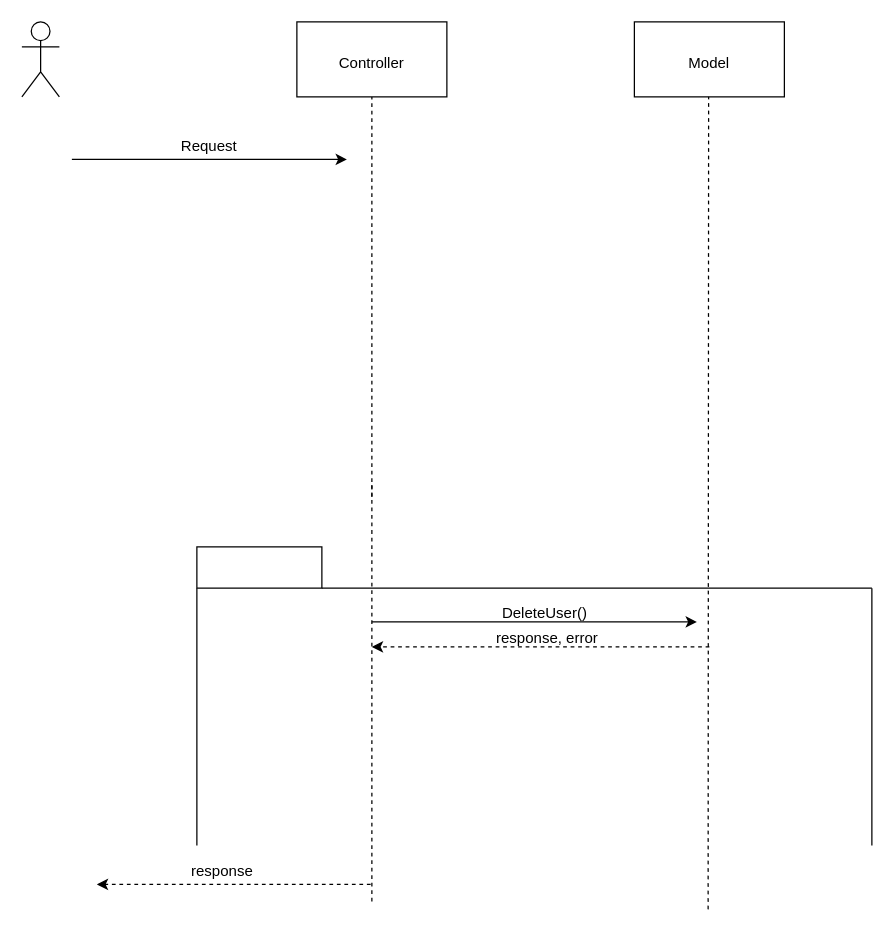
Some shapes in this 895 by 933 pixel diagram are drawn without their labels. The shapes that lost their labels are listed below. From the top down, each one's centre as x and y in pixels, then its label:
At [40,59]: "Actor".
At [259,567]: "Delete User's Existing Data".
